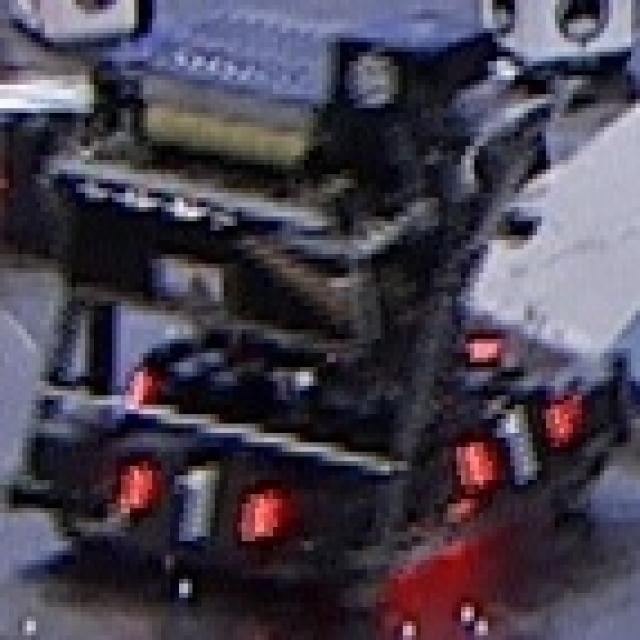R1: (103, 444, 277, 558), (452, 386, 577, 503)
